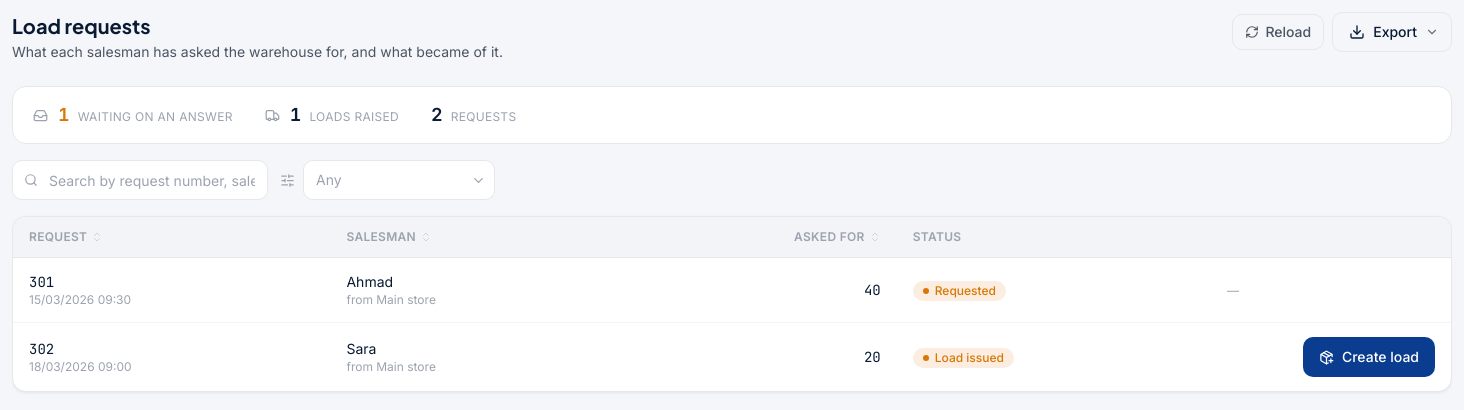
Test case: Load requests › finds a document by its number without falling over
Check: the table is shown, box [13,258,1451,391]
Check: the text "Ahmad" is shown, box [346,273,393,290]
Type "302" into the field with placeholder "Search by request number, salesman or warehouse…".
click(140, 180); type("302")  # box [12,160,268,200]
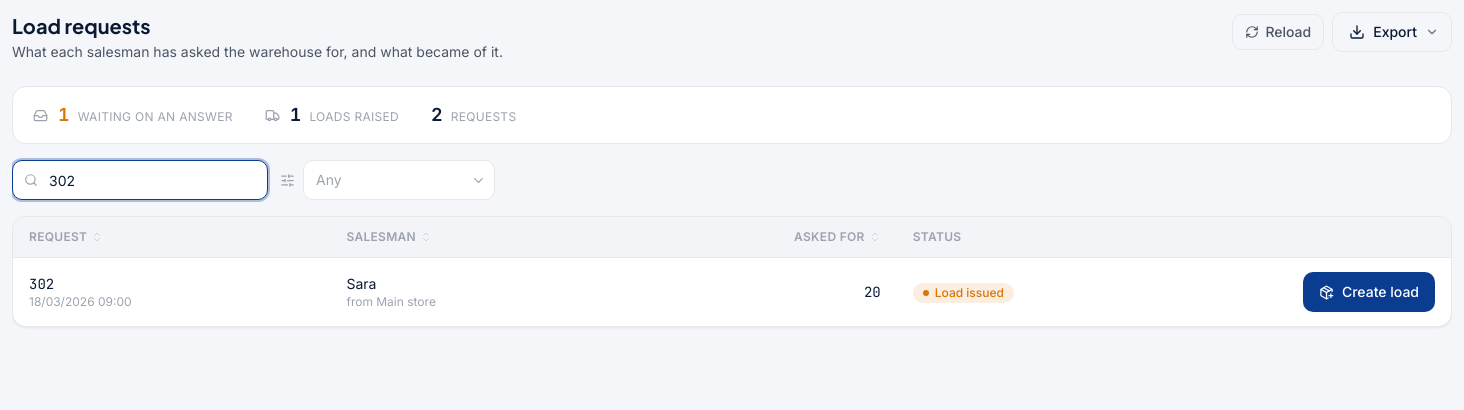
Check: the text "Sara" is shown, box [346,275,376,292]
Check: the text "Ahmad" is gone
